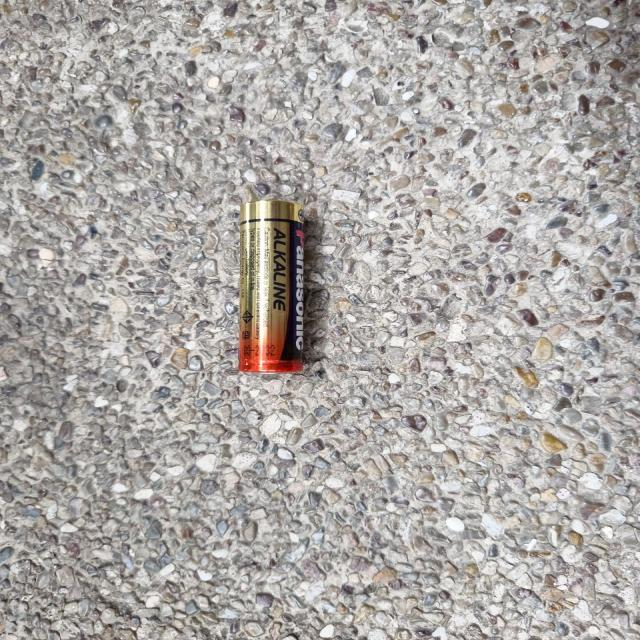battery: (224, 195, 322, 382)
